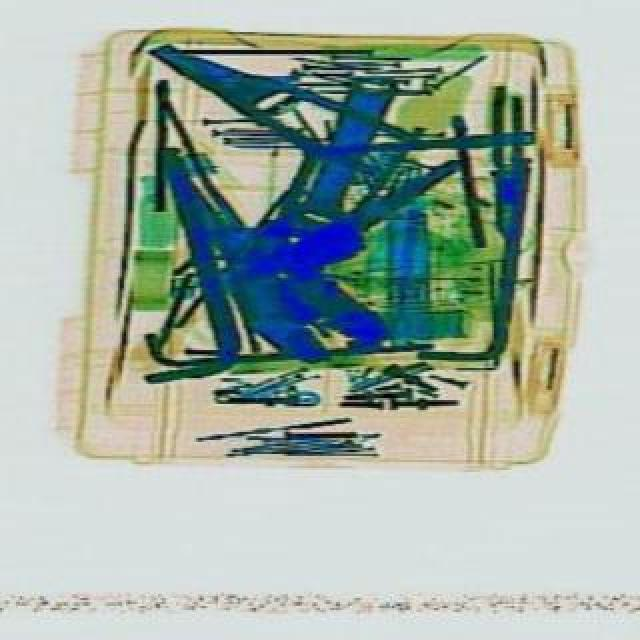scissors: (272, 64, 430, 280)
wrench: (144, 26, 432, 194)
